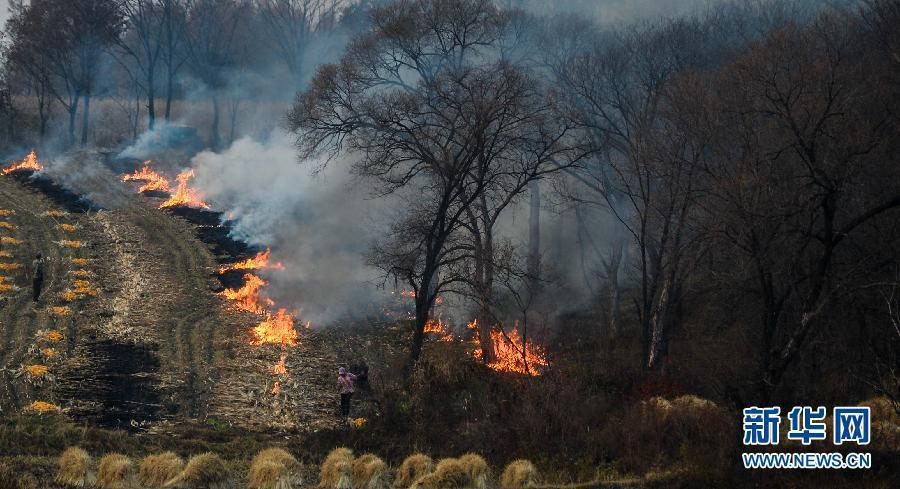fire: (424, 286, 550, 372), (219, 240, 302, 348), (120, 154, 201, 213), (8, 145, 45, 180)
